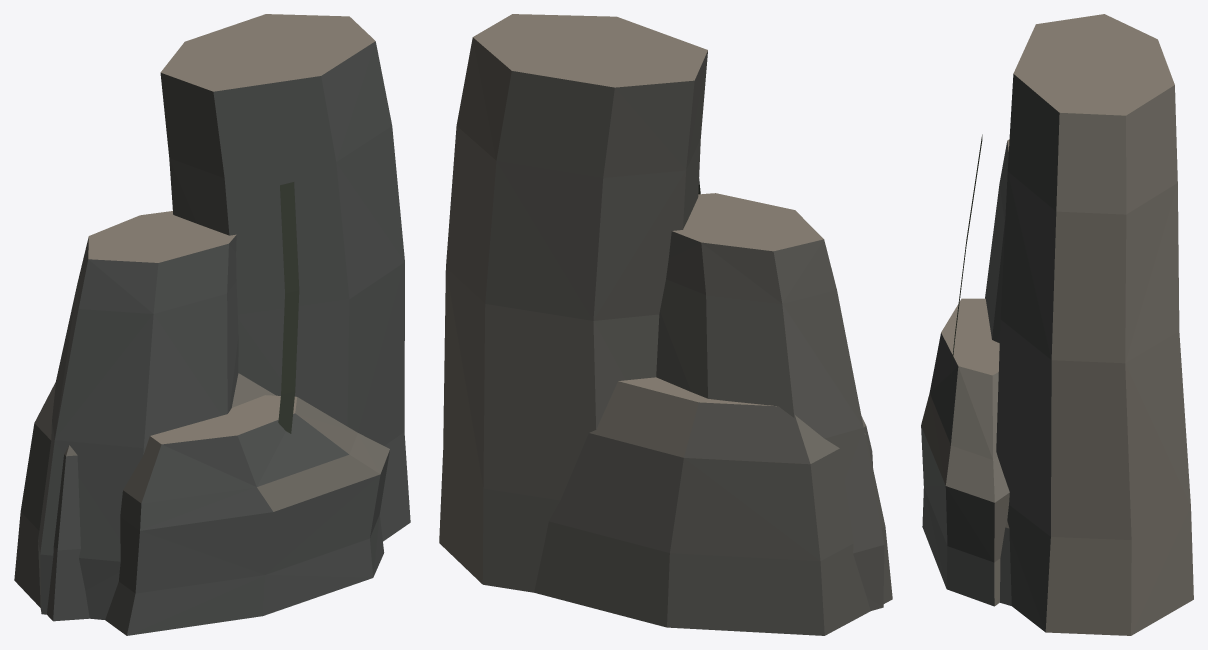
File: verdant-cliff-buttress.glb
3 views of the same model, side by side, from view 1: azimuth 30°, elevation 25°; view 2: azimuth 150°, elevation 25°; view 3: azimuth 270°, elevation 25° (orthographic). The views are drawn at different scales.
Parts seen in each view (by area): view 1: verdant-cliff-buttress; view 2: verdant-cliff-buttress; view 3: verdant-cliff-buttress.
Part boxes in pixels (x1=…): verdant-cliff-buttress: x1=14, y1=14, x2=410, y2=635; verdant-cliff-buttress: x1=439, y1=14, x2=892, y2=635; verdant-cliff-buttress: x1=921, y1=14, x2=1193, y2=635.
Size of the model in its own units: 3.18 by 3.88 by 1.9.
1 material, 1 textured.
